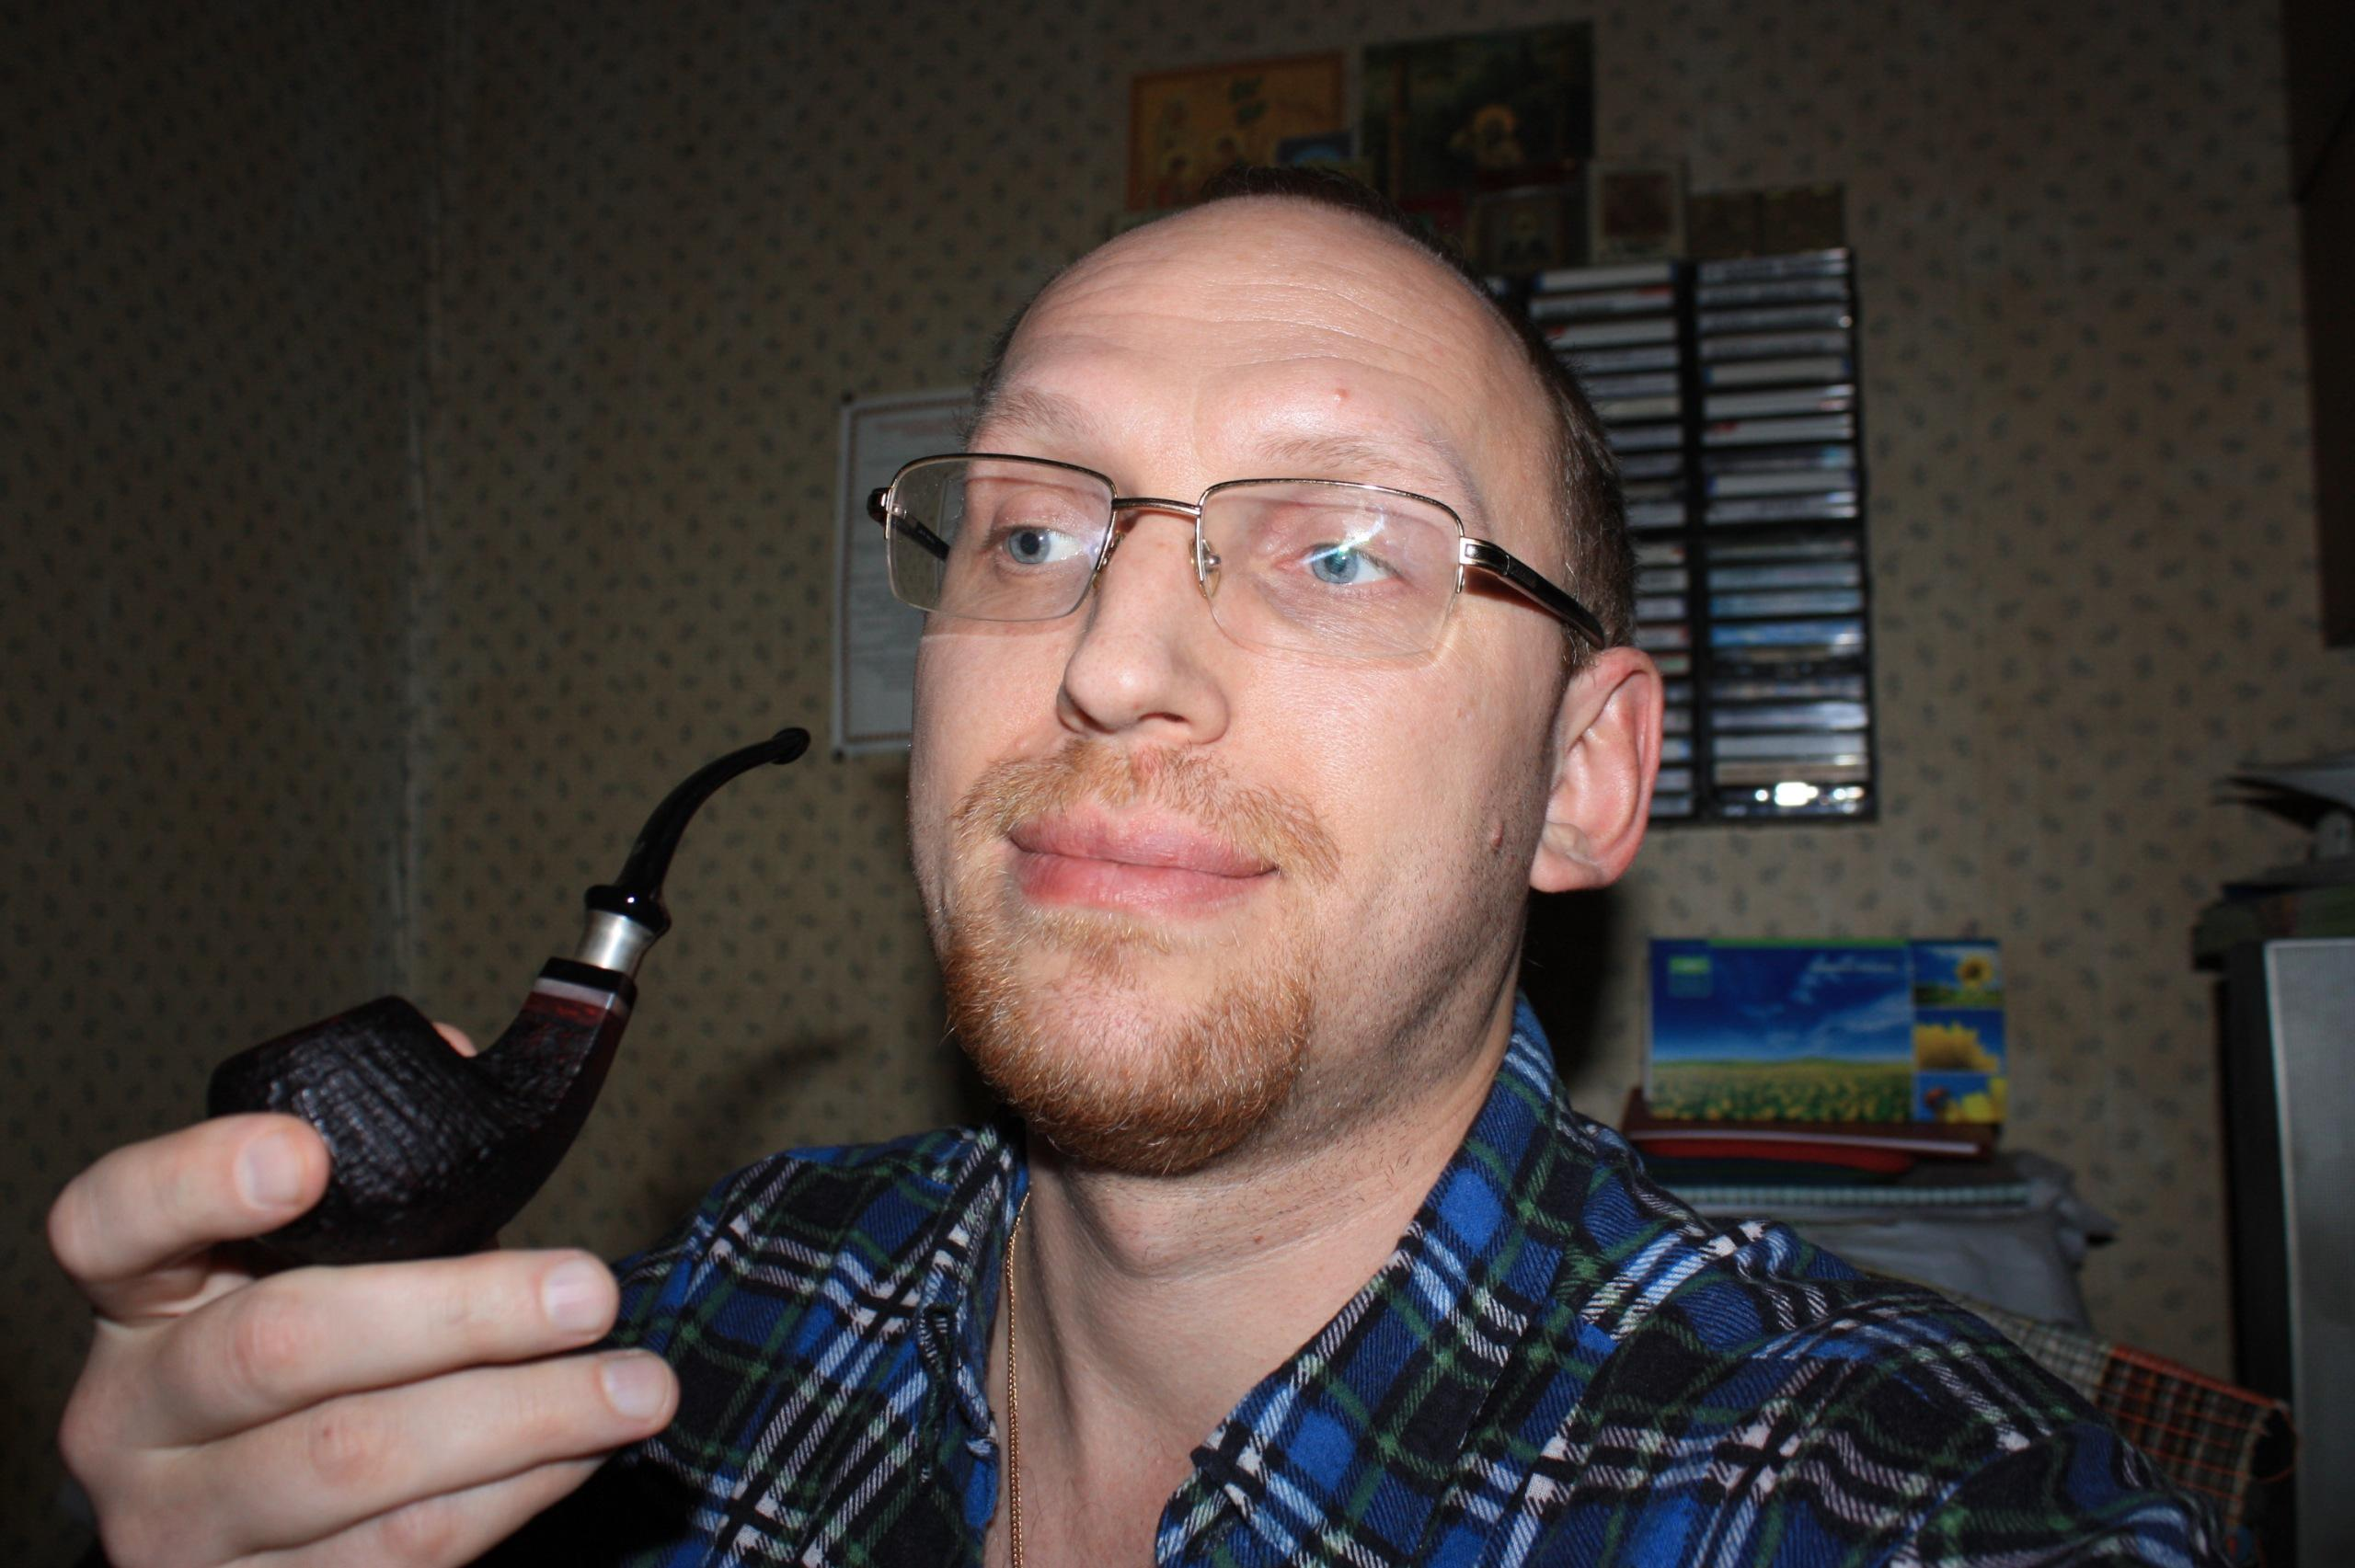trubka: (206, 728, 807, 1272)
